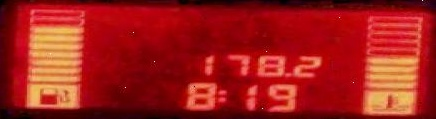-: (281, 71, 291, 76)
1: (243, 83, 258, 111), (201, 54, 213, 75)
2: (291, 54, 321, 77)
7: (223, 53, 249, 75)
8: (183, 81, 216, 110), (255, 54, 285, 76)
9: (264, 82, 296, 111)
X: (214, 89, 228, 102)
